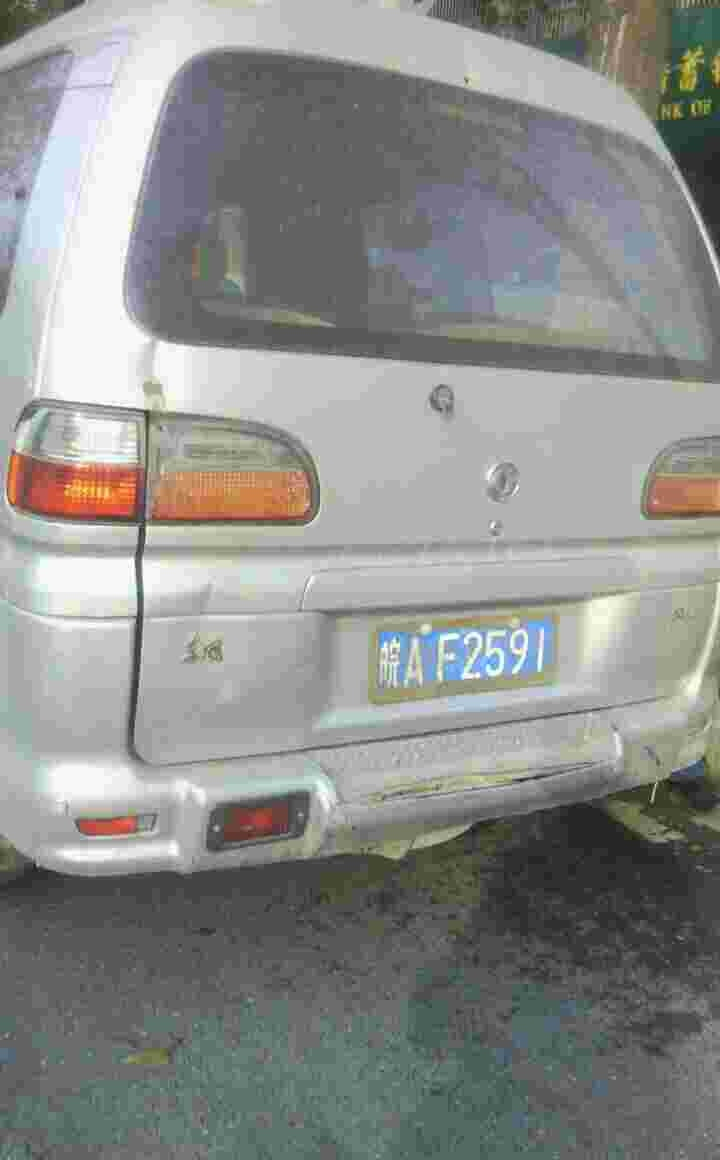license_plate: (372, 627, 555, 688)
